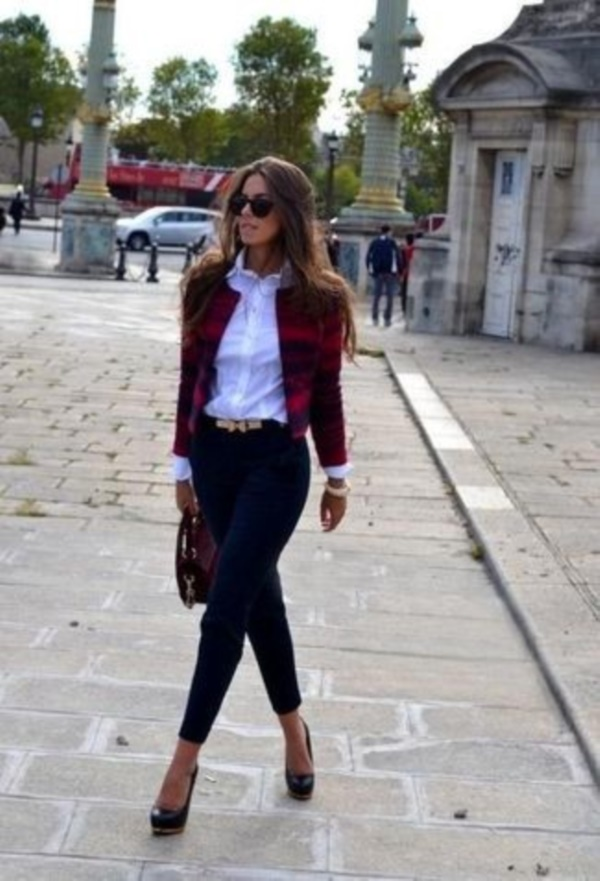F_W_suit jacket: (161, 264, 390, 470)
